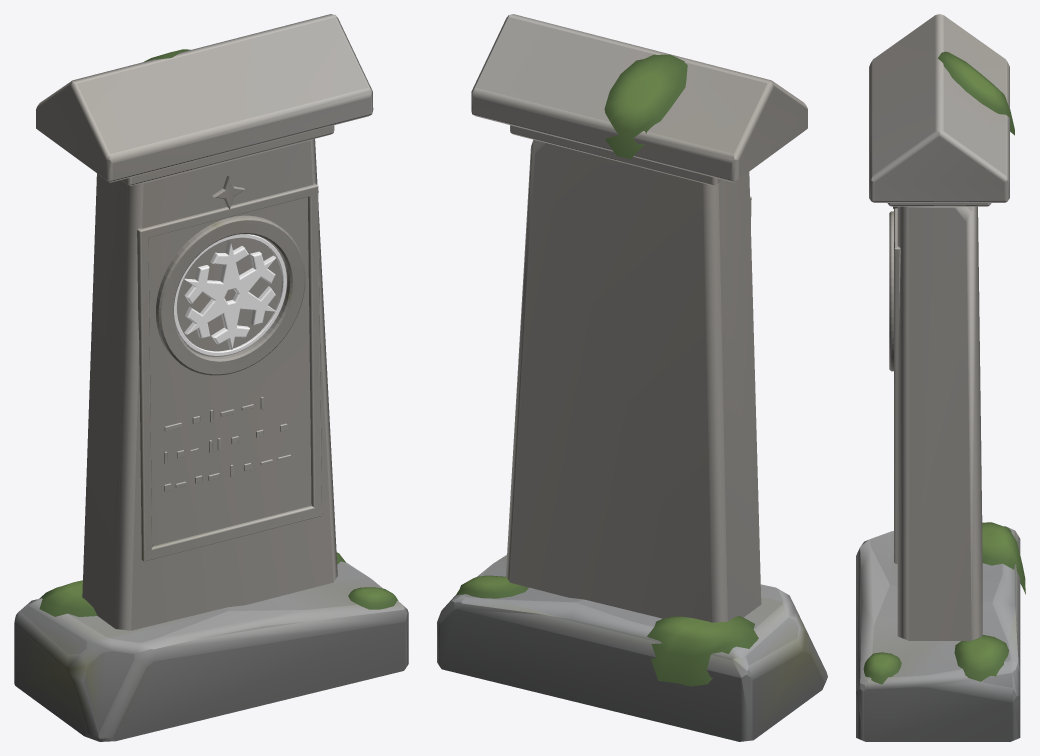
File: stele_ice.glb
3 renders of one model, left to right at view 1: azimuth 30°, elevation 25°; view 2: azimuth 150°, elevation 25°; view 3: azimuth 270°, elevation 25°, orthographic. The views are drawn at different scales.
Parts seen in each view (by area): view 1: stele_ice_LOD0; view 2: stele_ice_LOD0; view 3: stele_ice_LOD0.
Boxes of the visible parts, box(x1,y1,x2,y2) form: stele_ice_LOD0: box(14, 14, 408, 741); stele_ice_LOD0: box(437, 14, 827, 741); stele_ice_LOD0: box(856, 14, 1025, 741).
Size of what is drawn, in the model's own units: 1.32 by 2.52 by 0.6513.
